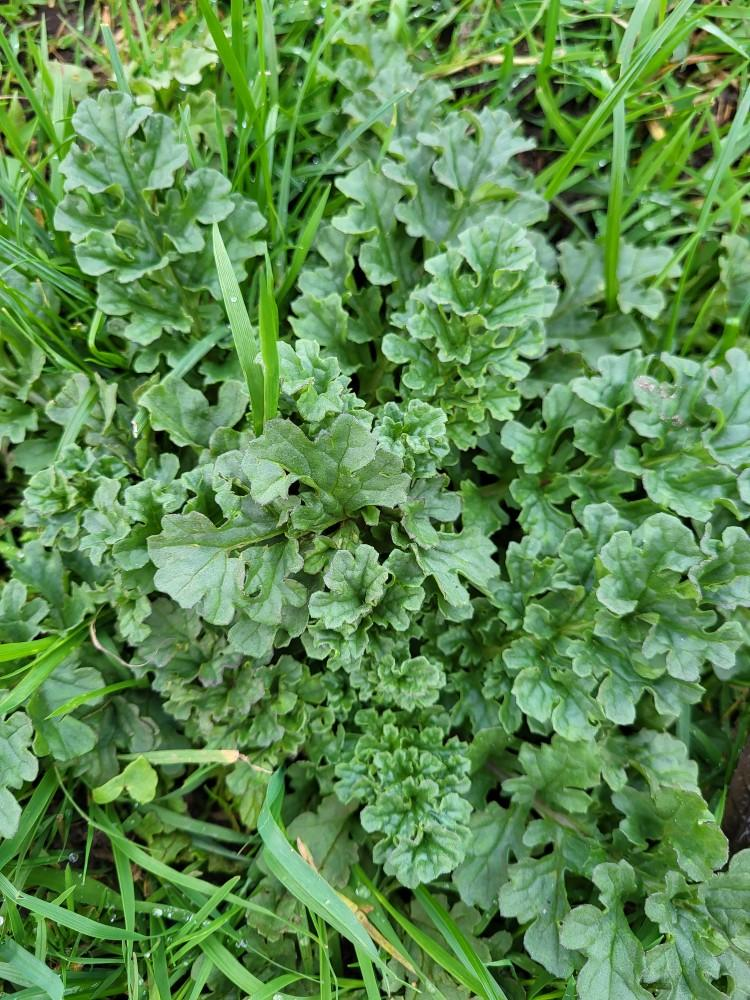Jacobaea vulgaris: (0, 79, 744, 897)
